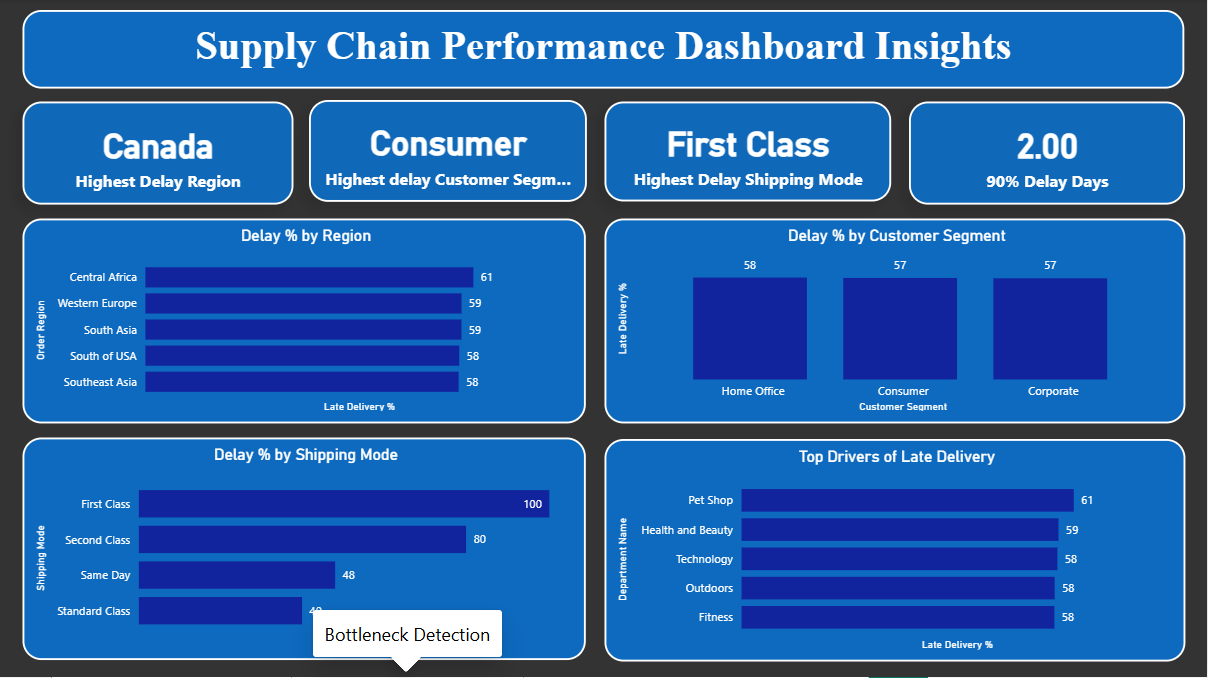

This screenshot's page, from the dashboard's own definition file:
{"tool":"powerbi","page":{"name":"Bottleneck Detection ","canvas":[1280,720],"ordinal":1},"visuals":[{"type":"textbox","box":[24.6,13.2,1232.1,83.2],"z":0},{"type":"card","fields":{"Values":["Min(DataCoSupplyChainDataset.Order Region)"]},"box":[24.6,109.6,287.2,109.6],"z":1000},{"type":"card","fields":{"Values":["Min(DataCoSupplyChainDataset.Customer Segment)"]},"box":[326.9,107.7,294.8,107.7],"z":2000},{"type":"card","fields":{"Values":["Min(DataCoSupplyChainDataset.Shipping Mode)"]},"box":[640.6,109.6,304.3,105.8],"z":3000},{"type":"card","fields":{"Values":["DataCoSupplyChainDataset.90% Delay Days"]},"box":[963.8,109.6,292.9,109.6],"z":4000},{"type":"barChart","title":"Delay % by Region","fields":{"Category":["DataCoSupplyChainDataset.Order Region"],"Y":["DataCoSupplyChainDataset.Late Delivery %"]},"box":[24.6,234.3,597.2,217.3],"z":5000},{"type":"clusteredColumnChart","title":"Delay % by Customer Segment","fields":{"Category":["DataCoSupplyChainDataset.Customer Segment"],"Y":["DataCoSupplyChainDataset.Late Delivery %"]},"box":[640.6,234.3,616.1,217.3],"z":5001},{"type":"barChart","title":"Delay % by Shipping Mode","fields":{"Y":["DataCoSupplyChainDataset.Late Delivery %"],"Category":["DataCoSupplyChainDataset.Shipping Mode"]},"box":[24.6,466.8,597.2,236.2],"z":5002},{"type":"barChart","title":"Top Drivers of Late Delivery","fields":{"Y":["DataCoSupplyChainDataset.Late Delivery %"],"Category":["DataCoSupplyChainDataset.Department Name"]},"box":[641,467,616,236],"z":5003}]}

Visuals, with their boxes in screenshot pixels (x1, y1, x2, y2), scaled from the page's 1280x720 canvas onto the 1208x678 screenshot:
textbox: bbox=(23, 12, 1186, 91)
card - Min(DataCoSupplyChainDataset.Order Region): bbox=(23, 103, 294, 206)
card - Min(DataCoSupplyChainDataset.Customer Segment): bbox=(309, 101, 587, 203)
card - Min(DataCoSupplyChainDataset.Shipping Mode): bbox=(605, 103, 892, 203)
card - DataCoSupplyChainDataset.90% Delay Days: bbox=(910, 103, 1186, 206)
"Delay % by Region" barChart: bbox=(23, 221, 587, 425)
"Delay % by Customer Segment" clusteredColumnChart: bbox=(605, 221, 1186, 425)
"Delay % by Shipping Mode" barChart: bbox=(23, 440, 587, 662)
"Top Drivers of Late Delivery" barChart: bbox=(605, 440, 1186, 662)
